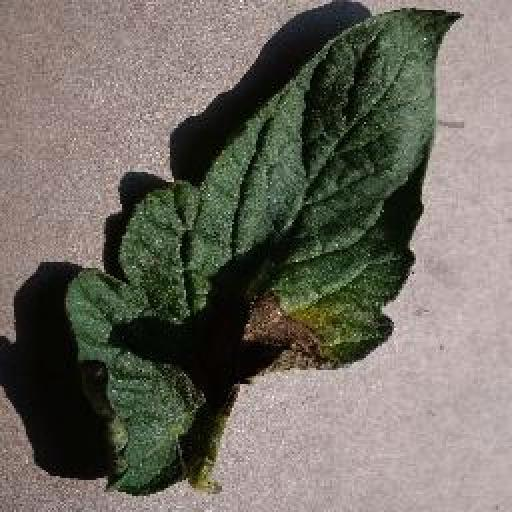disease_tomato: (64, 6, 466, 502)
